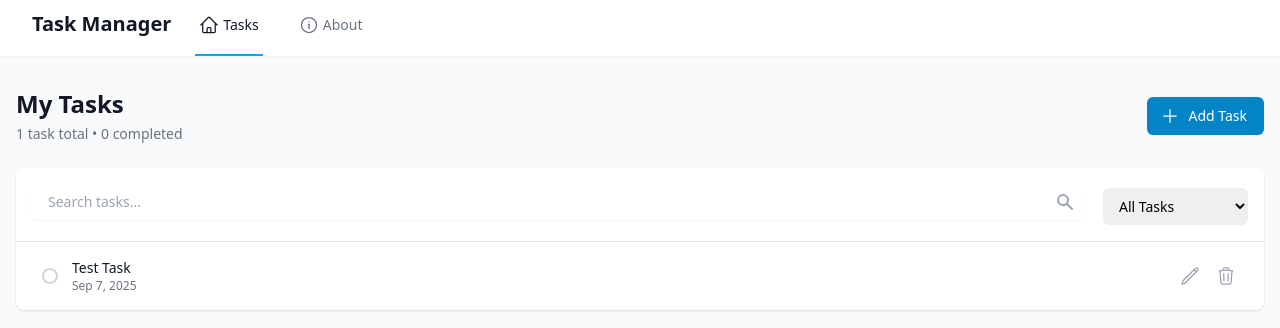
App › toggles task completion
Note: Toggle the task completion
What coordinates should you click on to do the following:
click the button named "mark as complete"
I would click on:
 (50, 276)
Its box is [40,266,60,286].
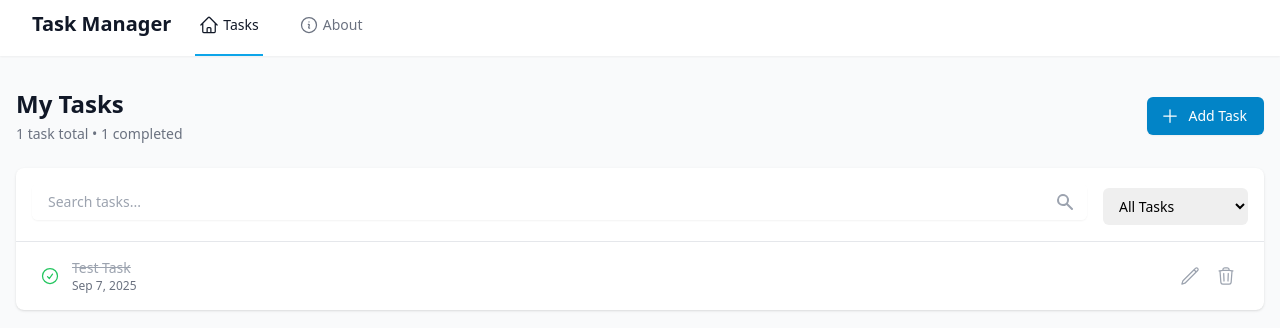
Check: the text "1 task total • 1 completed" is shown, box [16,124,183,144]
